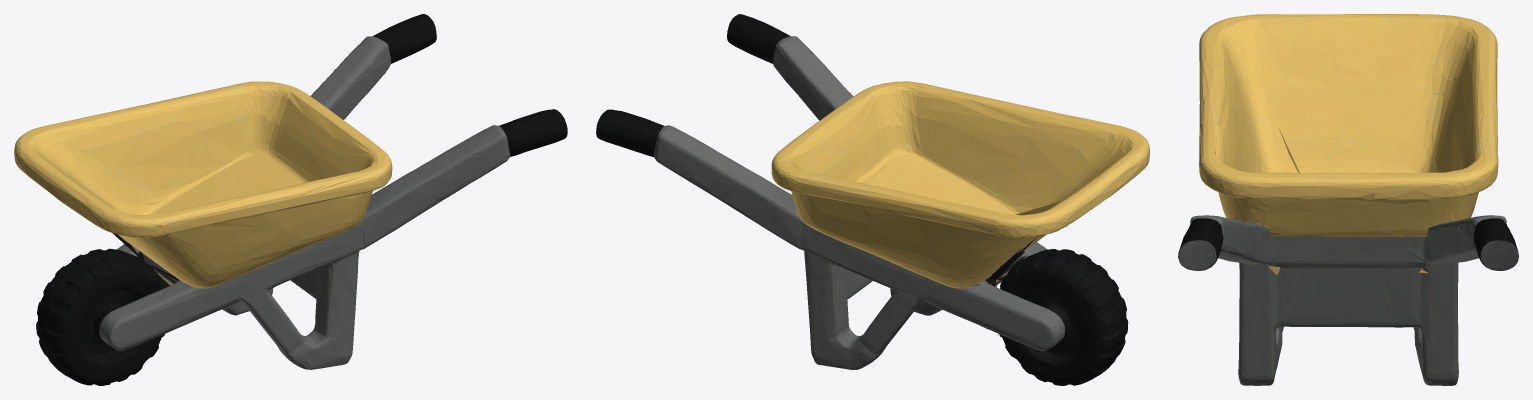
The model's file is wheelbarrow_v1.glb.
3 renders of one model, left to right at view 1: azimuth 30°, elevation 25°; view 2: azimuth 150°, elevation 25°; view 3: azimuth 270°, elevation 25°, orthographic. The views are drawn at different scales.
Parts seen in each view (by area): view 1: tray_mesh, wheel_mesh, body_mesh; view 2: tray_mesh, body_mesh, wheel_mesh; view 3: tray_mesh, body_mesh.
Part boxes in pixels (<box>): tray_mesh: <box>14,62,485,288</box>; wheel_mesh: <box>36,233,203,385</box>; body_mesh: <box>142,14,567,369</box>; tray_mesh: <box>677,57,1149,288</box>; body_mesh: <box>596,14,1024,369</box>; wheel_mesh: <box>958,235,1128,385</box>; tray_mesh: <box>1199,14,1498,293</box>; body_mesh: <box>1178,215,1518,385</box>.
Size of the model in its own units: 1.1 by 0.5165 by 0.6236.
Materials: 1 (1 with a texture image).
